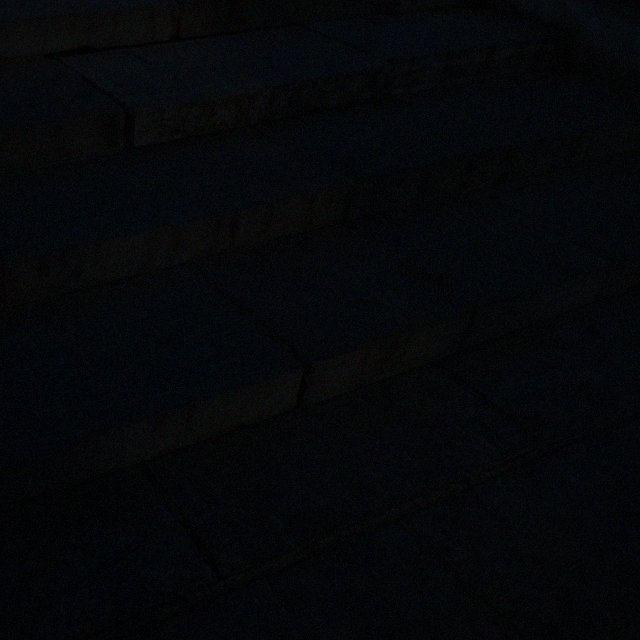stair: (0, 0, 639, 510)
